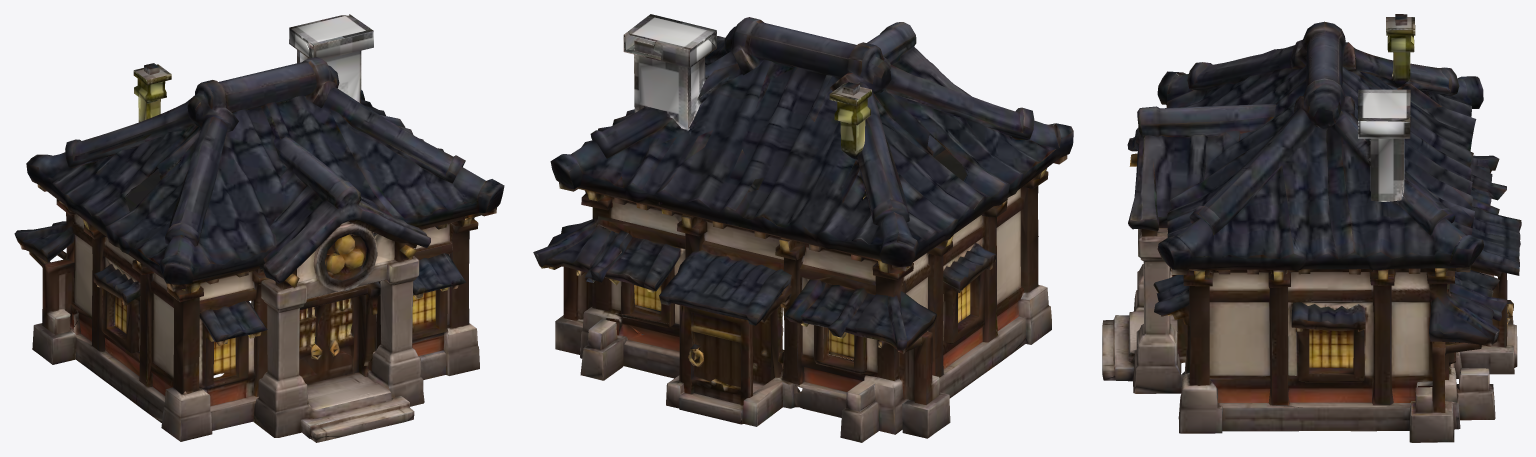
Rendered from candidate.glb.
3 views of the same model, side by side, from view 1: azimuth 30°, elevation 25°; view 2: azimuth 150°, elevation 25°; view 3: azimuth 270°, elevation 25° (orthographic). The views are drawn at different scales.
Parts seen in each view (by area): view 1: compact__vault_bank__native_mobile; view 2: compact__vault_bank__native_mobile; view 3: compact__vault_bank__native_mobile.
Part boxes in pixels (left/top/right/bottom): compact__vault_bank__native_mobile: left=14, top=14, right=504, bottom=442; compact__vault_bank__native_mobile: left=533, top=14, right=1073, bottom=442; compact__vault_bank__native_mobile: left=1102, top=14, right=1521, bottom=442.
Size of the model in its own units: 0.9977 by 0.8008 by 1.
1 material, 1 textured.
